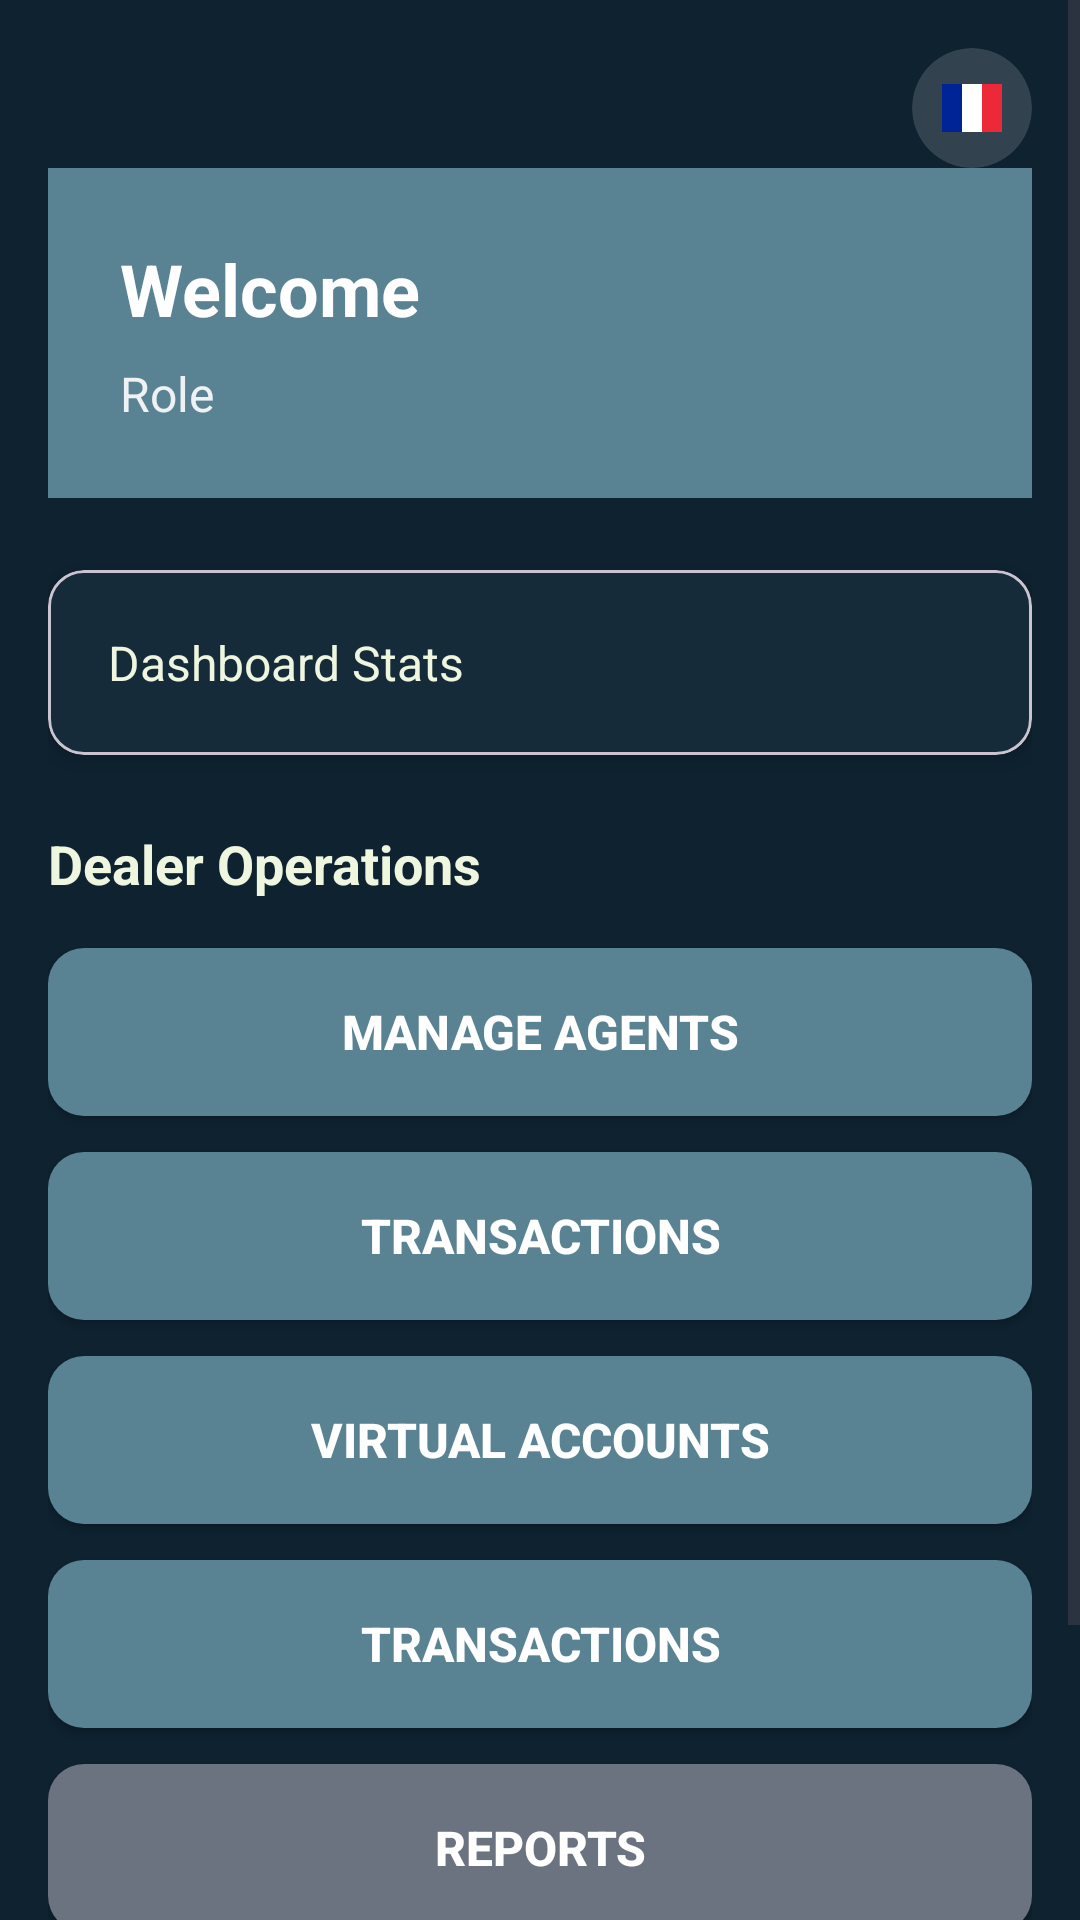

Icon click points for this 1080w x 1920h phone screenshot, format (x,y):
flag fr: (972,108)
